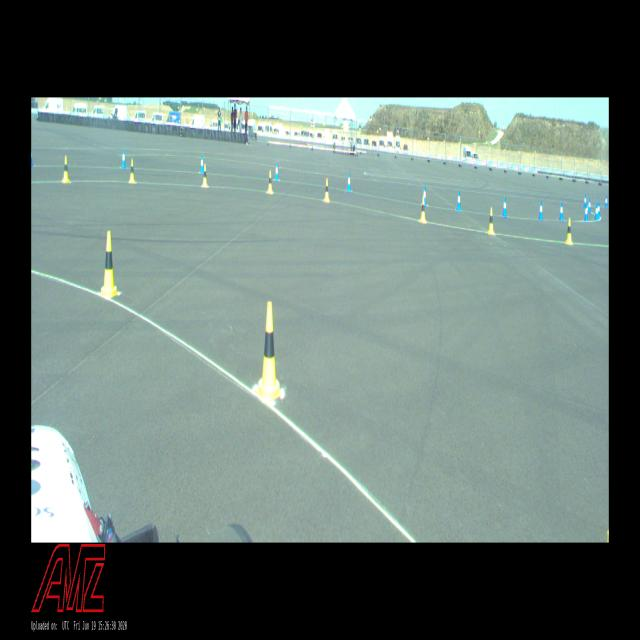blue_cone: (538, 200, 543, 220), (456, 190, 461, 210), (502, 197, 507, 216), (121, 149, 126, 168), (200, 155, 204, 173), (347, 174, 351, 192), (559, 202, 563, 220), (274, 163, 278, 180), (594, 203, 598, 220), (584, 204, 588, 220), (31, 149, 34, 166), (588, 198, 591, 212), (605, 195, 608, 208), (424, 186, 426, 205), (598, 202, 600, 218), (584, 194, 586, 207)
yellow_cone: (255, 302, 282, 401), (100, 231, 118, 297), (62, 156, 70, 183), (488, 207, 494, 234), (566, 219, 572, 244), (324, 178, 330, 202), (130, 159, 136, 183), (420, 198, 426, 222), (202, 164, 208, 187), (267, 171, 273, 194)
